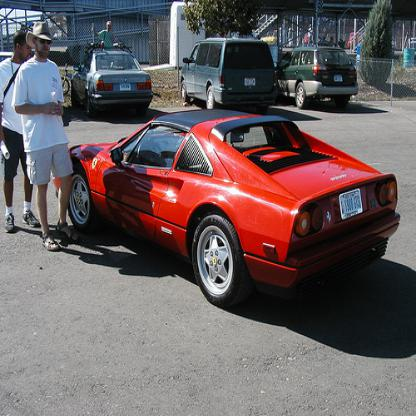car: (70, 109, 402, 316), (180, 38, 280, 111), (69, 49, 154, 119), (279, 48, 361, 110)
person: (11, 21, 81, 253), (1, 31, 40, 235), (91, 19, 115, 52)
